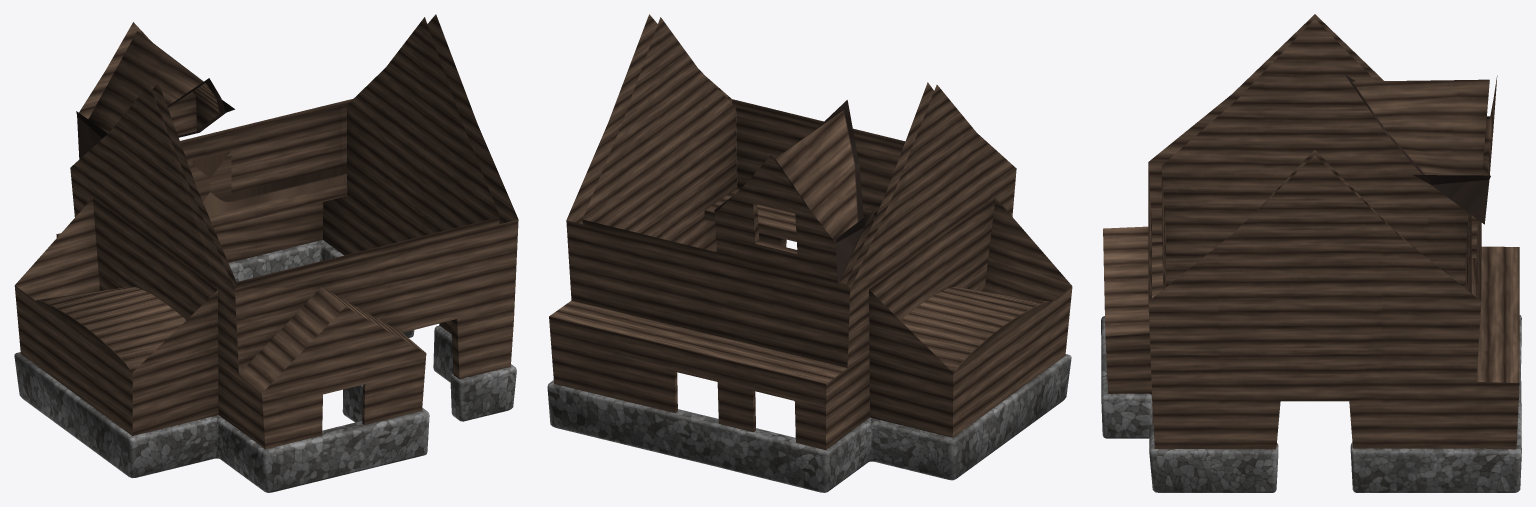
The model's file is m_Walls.fbx.
3 renders of one model, left to right at view 1: azimuth 30°, elevation 25°; view 2: azimuth 150°, elevation 25°; view 3: azimuth 270°, elevation 25°, orthographic.
Parts seen in each view (by area): view 1: Walls_Substance; view 2: Walls_Substance; view 3: Walls_Substance.
Boxes of the visible parts, <box> form: Walls_Substance: <box>14,14,518,492</box>; Walls_Substance: <box>547,14,1072,492</box>; Walls_Substance: <box>1101,14,1521,492</box>.
Bounding box in the file's own units: 700 × 621 × 696.
